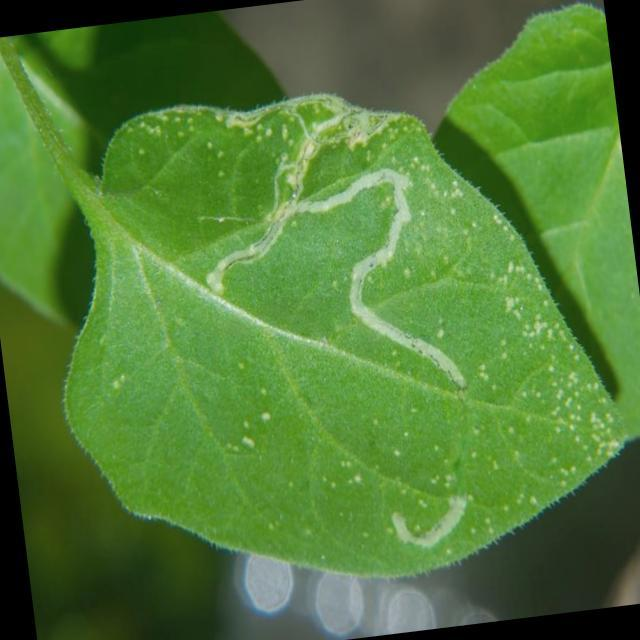Tomato target spot leaf: (31, 53, 640, 622)
